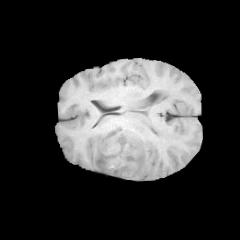glioma: (86, 125, 150, 180)
